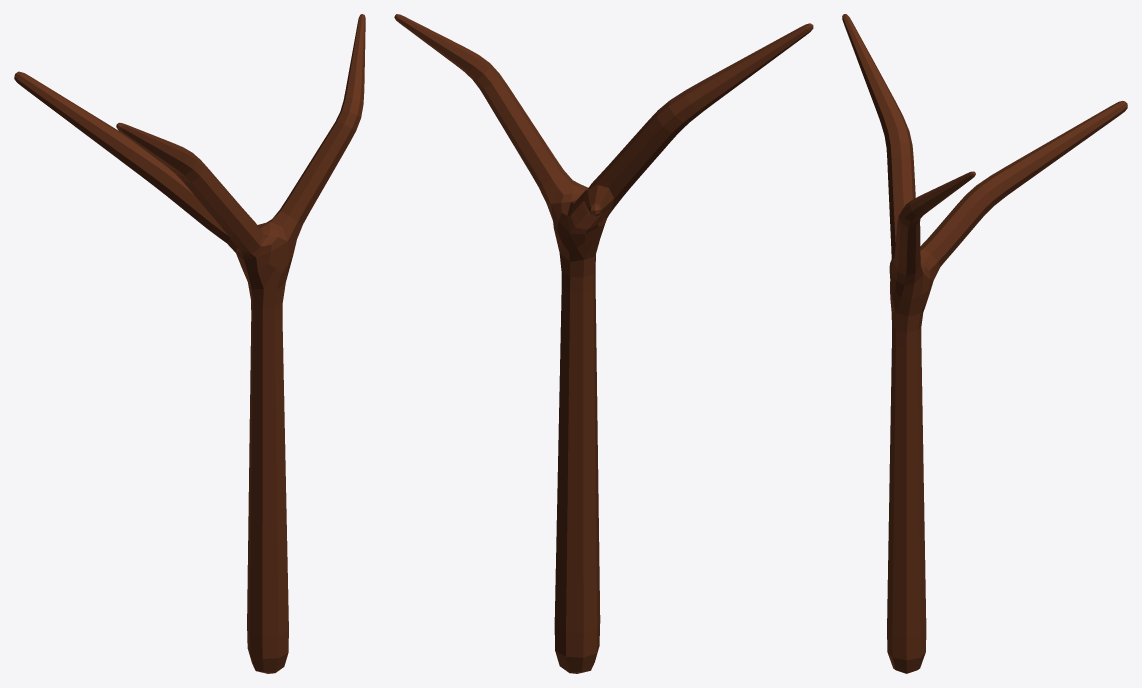
File: Sapling.fbx
3 views of the same model, side by side, from view 1: azimuth 30°, elevation 25°; view 2: azimuth 150°, elevation 25°; view 3: azimuth 270°, elevation 25° (orthographic). The views are drawn at different scales.
Parts seen in each view (by area): view 1: Sapling; view 2: Sapling; view 3: Sapling.
Boxes of the visible parts, x1,y1,x2,y2 form: Sapling: (14,14,365,673); Sapling: (394,14,813,673); Sapling: (842,14,1127,673).
Size of the model in its own units: 117 by 218 by 97.88.
